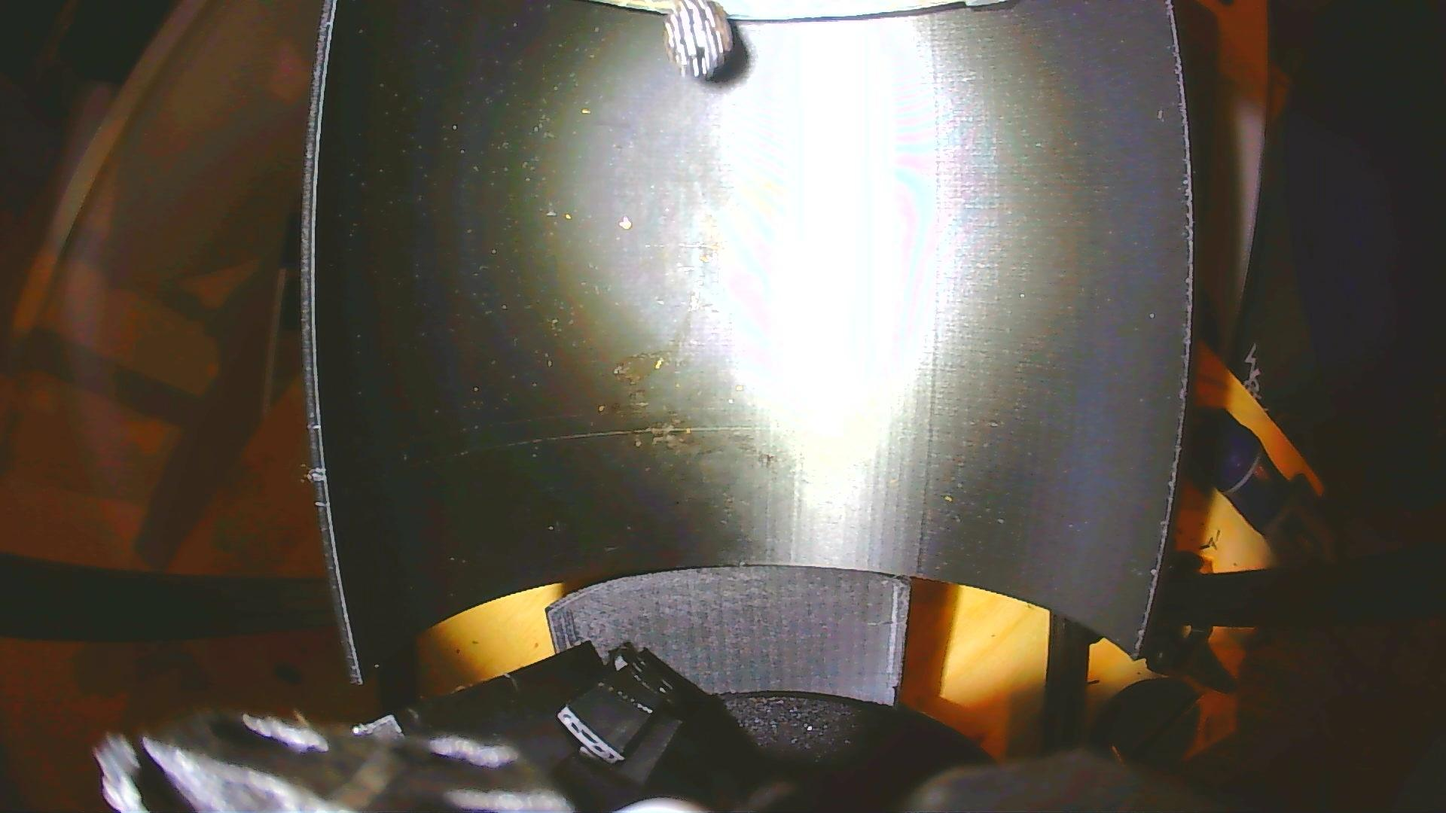berry: (664, 0, 732, 79)
